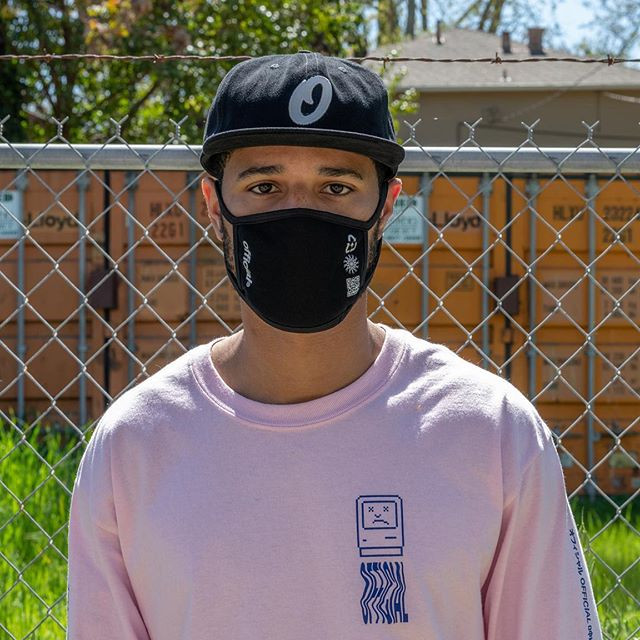homemade: (205, 196, 393, 323)
